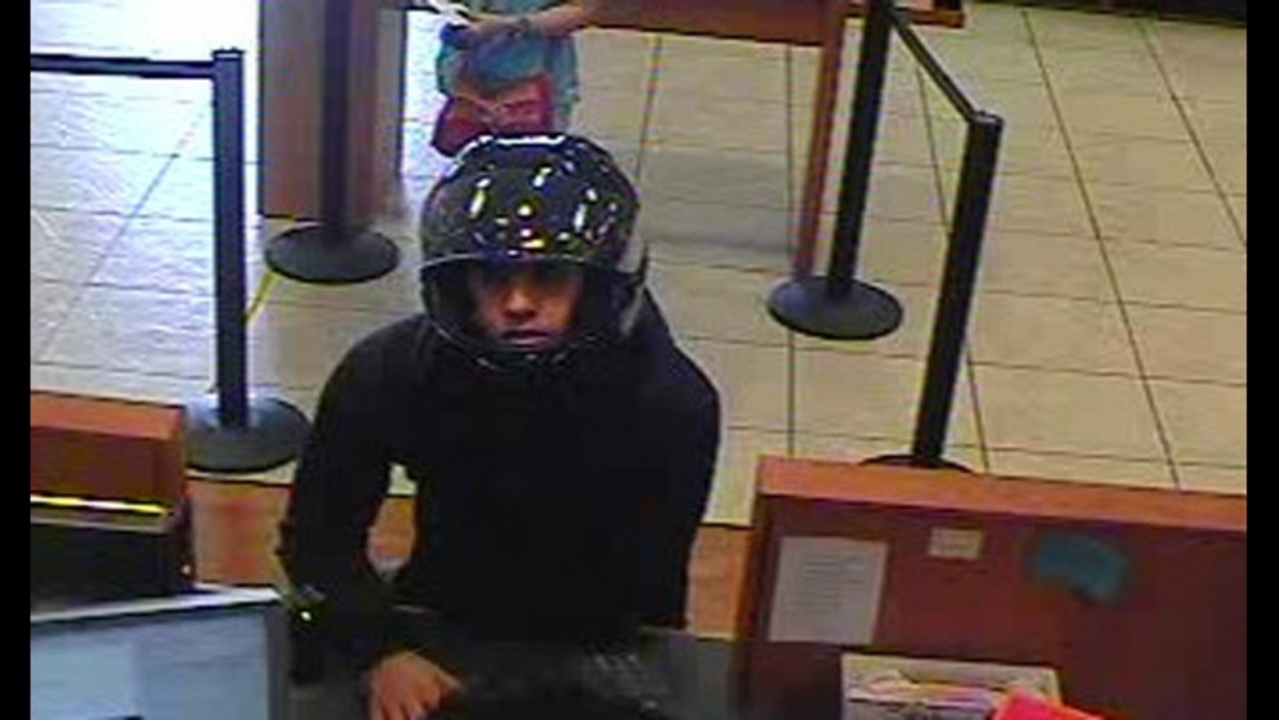helmet: (403, 133, 645, 267)
